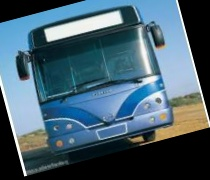bus: (9, 0, 189, 169)
